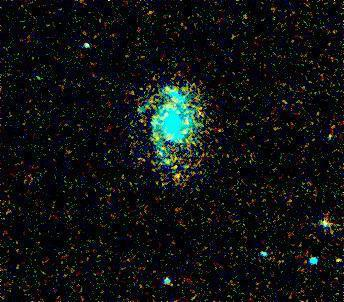star: (326, 246, 344, 276)
